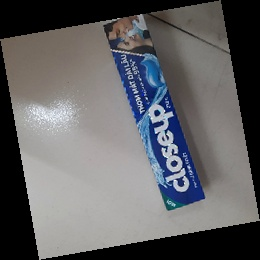CloseUp Tuyet: (102, 10, 206, 212)
